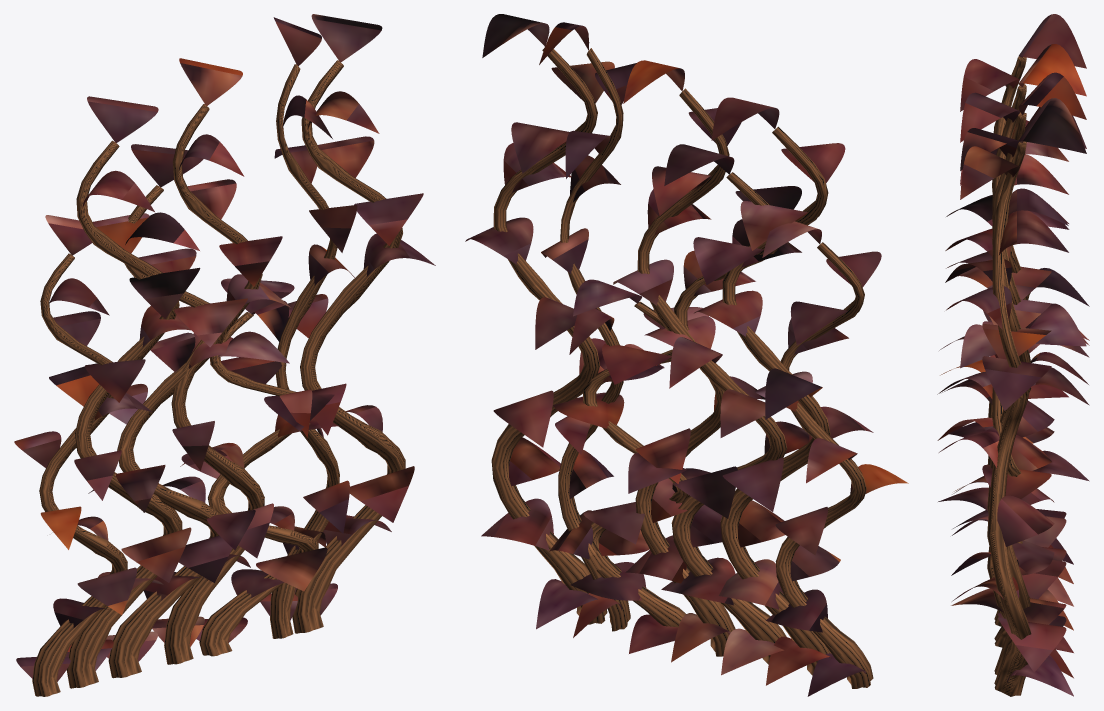
The model's file is rustvine_00.glb.
The picture shows the model from 3 angles, left to right: view 1: azimuth 30°, elevation 25°; view 2: azimuth 150°, elevation 25°; view 3: azimuth 270°, elevation 25°; orthographic projection. The views are drawn at different scales.
Visible parts, largest first — view 1: export; view 2: export; view 3: export.
Part boxes in pixels (left/top/right/bottom): export: left=14, top=14, right=435, bottom=696; export: left=465, top=14, right=908, bottom=696; export: left=937, top=14, right=1089, bottom=696.
Size of the model in its own units: 2.25 by 3.2 by 0.7189.
2 materials, 2 textured.
